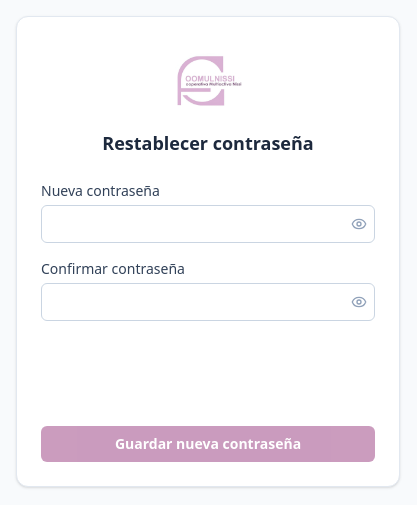
Test case: ResetPasswordPage con reto anti-bots › usa la acción «reset_password», espera el token y lo envía junto con la nueva contraseña
Later steps or results of the test are not shown.
In the password field labelled "Nueva contraseña": (208, 224) [41,204,375,242], type "Nueva-Clave-123!"
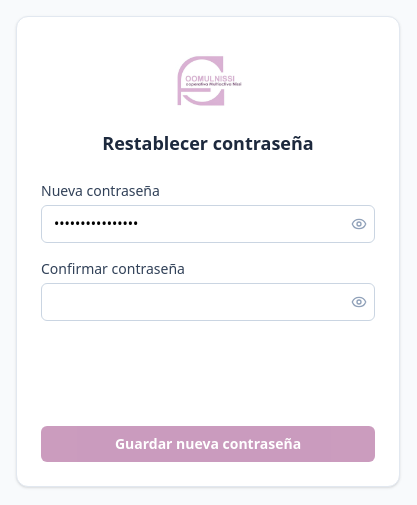
In the password field labelled "Confirmar contraseña": (208, 302) [41,282,375,320], type "Nueva-Clave-123!"
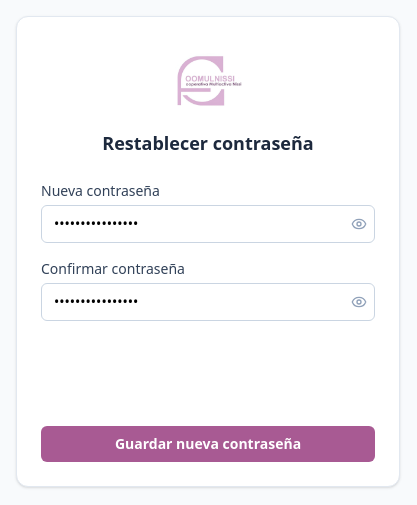
Check: the button "Guardar nueva contraseña" is enabled, box [41,426,375,462]
